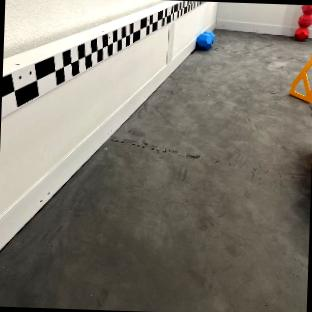V5_BLUE: (196, 31, 214, 50)
